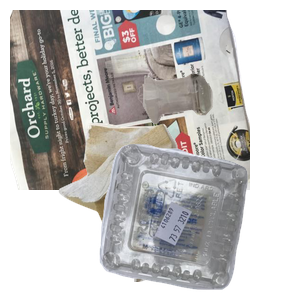glass: (141, 71, 300, 187)
paper: (10, 10, 250, 190)
plastic: (97, 141, 300, 300)
trash: (56, 120, 247, 300)
